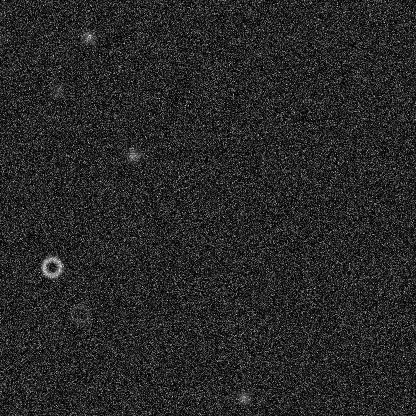Ring: (39, 254, 63, 278), (67, 302, 91, 326)
Spot: (236, 389, 252, 405), (125, 147, 141, 163), (49, 82, 65, 98), (80, 29, 96, 45)
